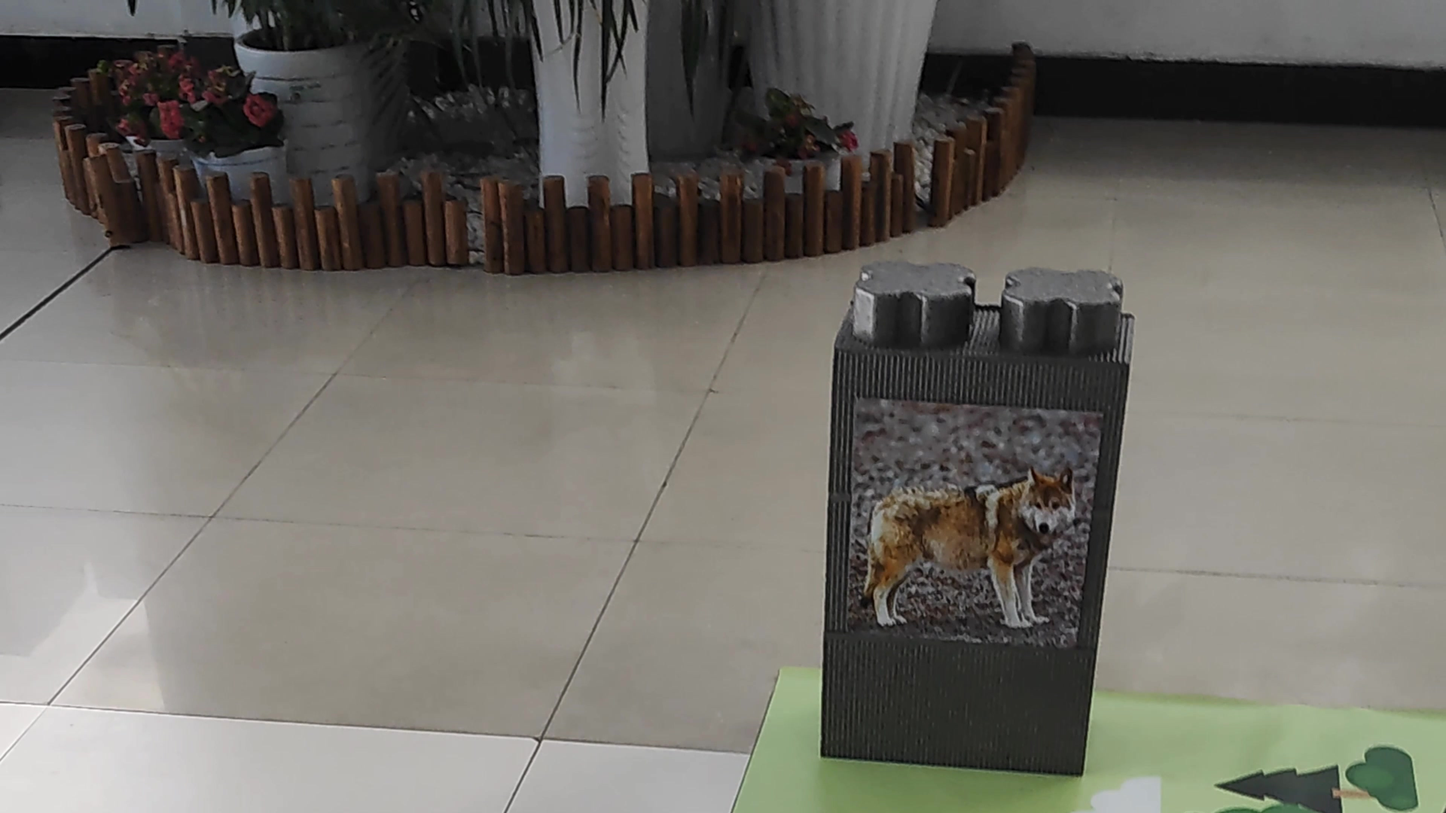wolf: (852, 405, 1106, 641)
